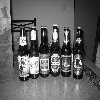beer: (29, 26, 41, 77)
